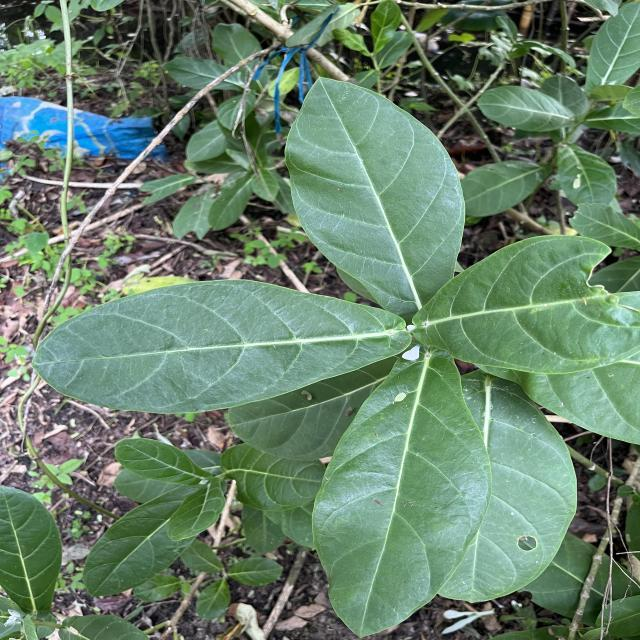Calotropis gigantea: (311, 344, 493, 640), (26, 276, 414, 414), (282, 75, 468, 316), (441, 367, 579, 606), (82, 486, 212, 598), (460, 159, 550, 217), (476, 84, 577, 132), (114, 437, 215, 482), (556, 142, 620, 208)
